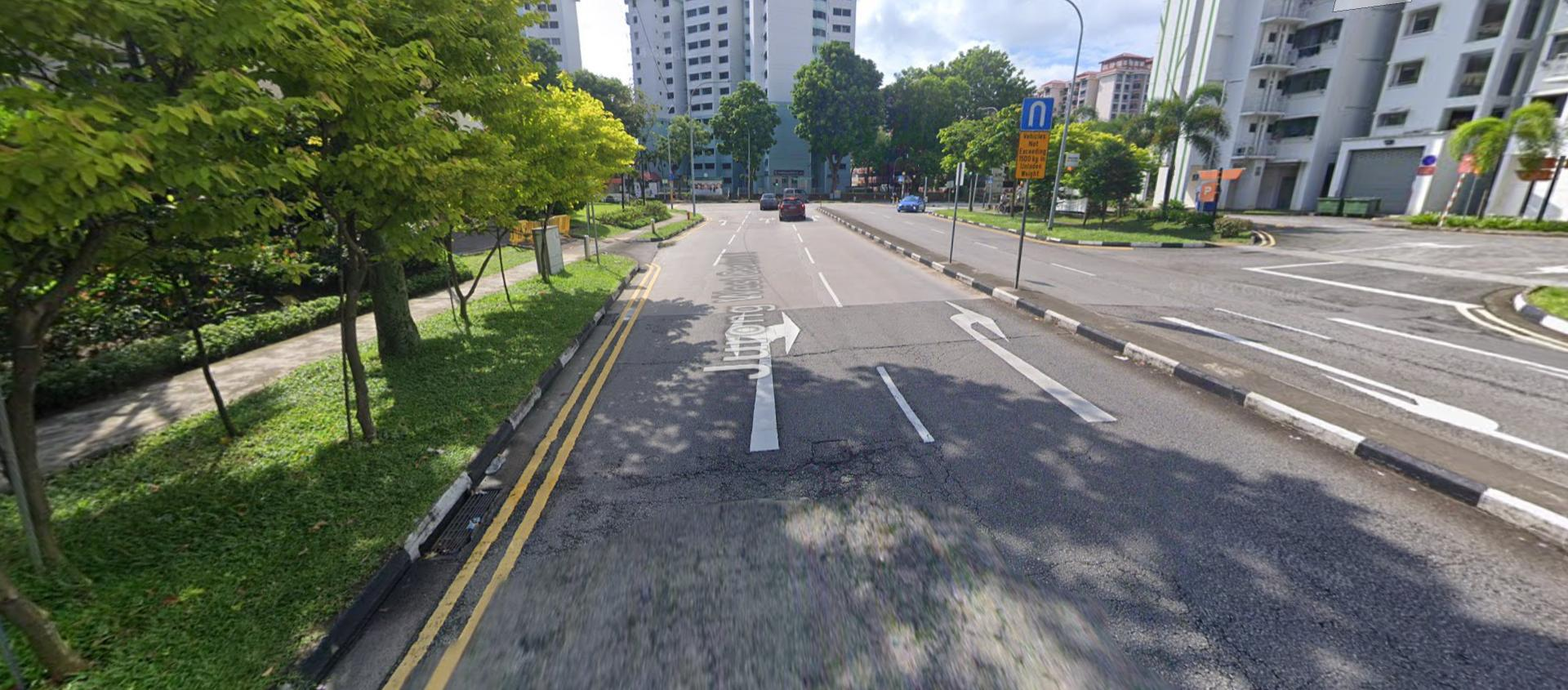defect: (430, 487, 503, 558)
